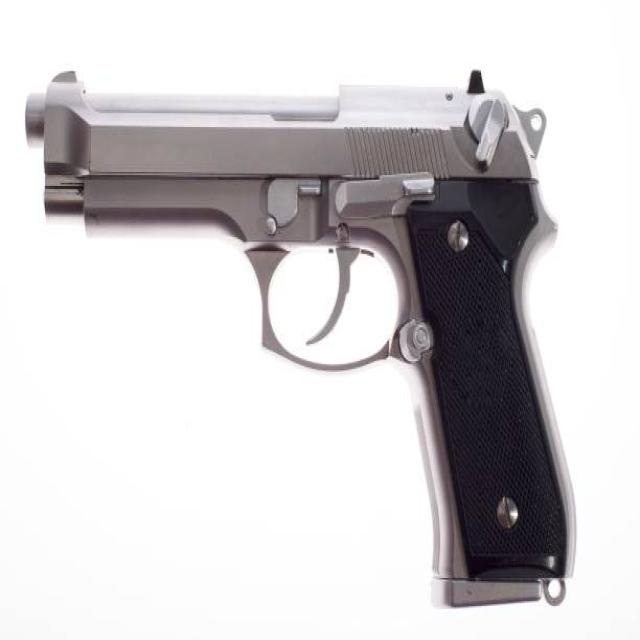pistol: (23, 68, 585, 616)
